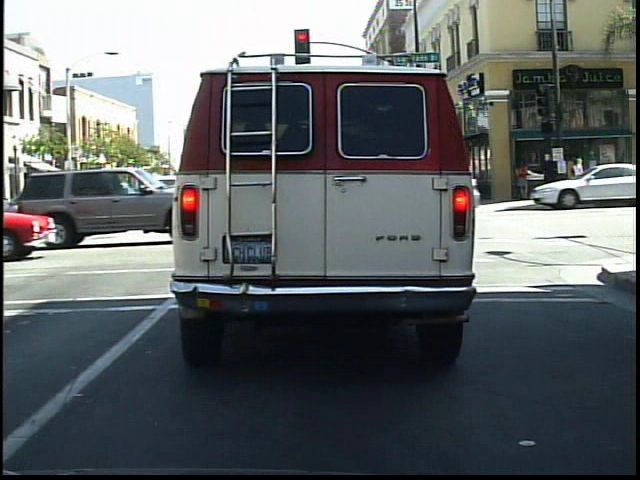person: (539, 151, 563, 208), (513, 156, 533, 202)
